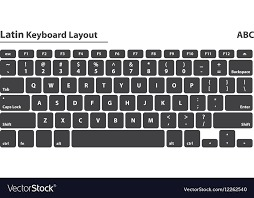keyboard: (2, 47, 254, 175)
